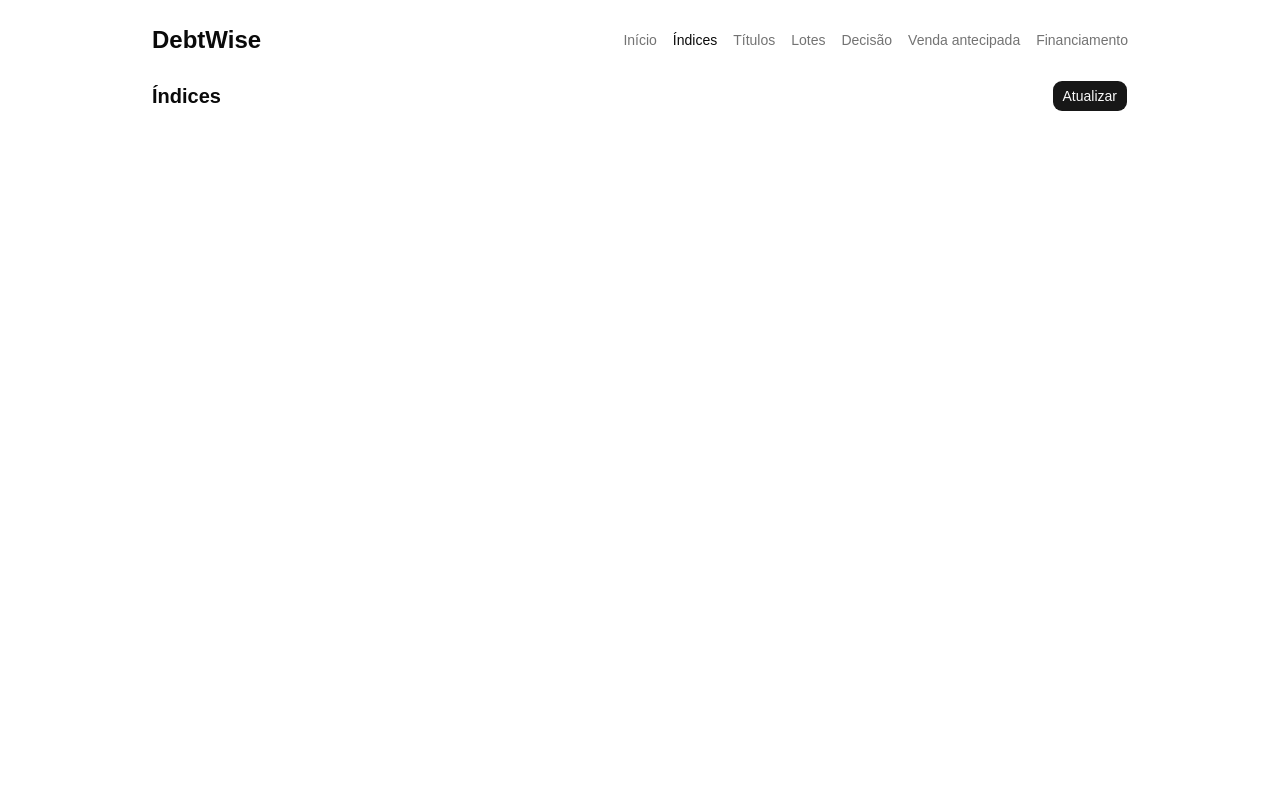
refresh › keeps the button disabled while the refresh request is pending
This screenshot has width=1280, height=800.
Click the button "Atualizar" at (1090, 96), box x1=1052 y1=80 x2=1128 y2=112
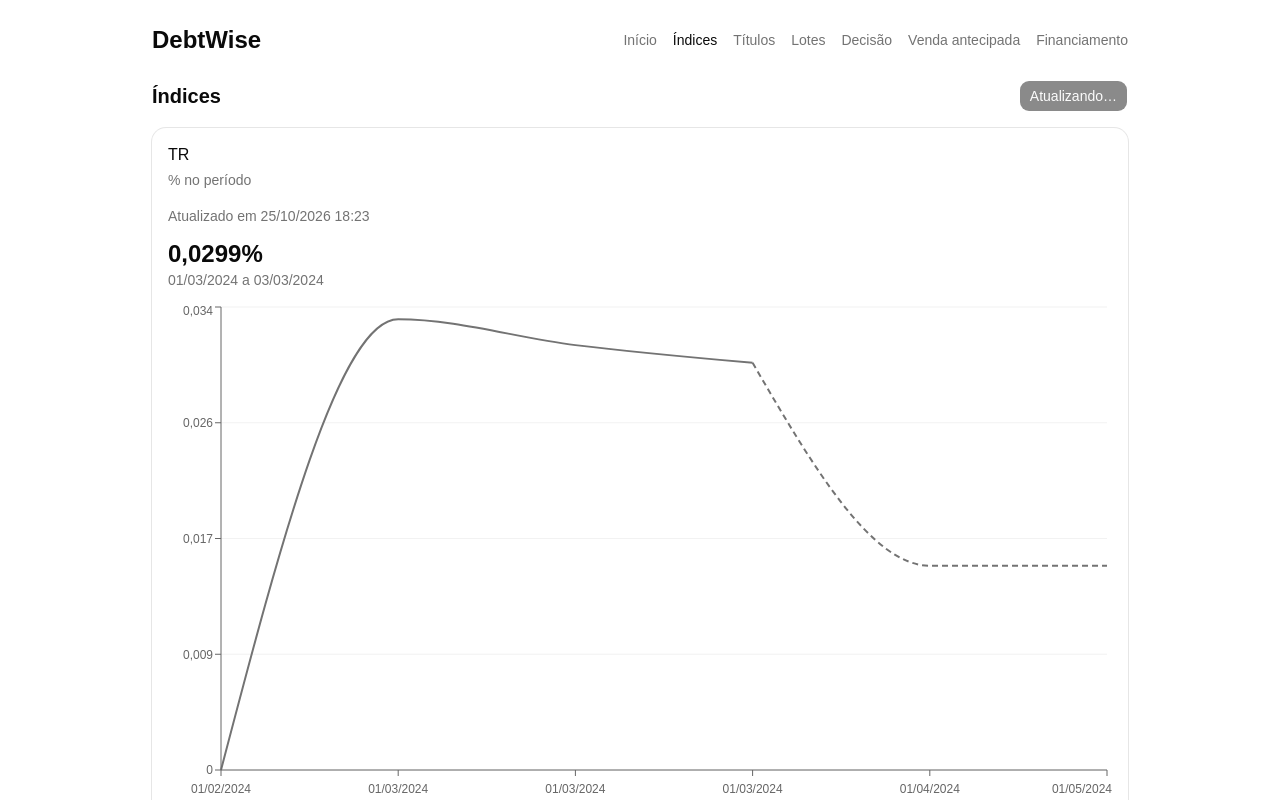
Now the button named "Atualizar" is disabled, box x1=1019 y1=80 x2=1128 y2=112
Now the button "Atualizando…" is disabled, box x1=1019 y1=80 x2=1128 y2=112
